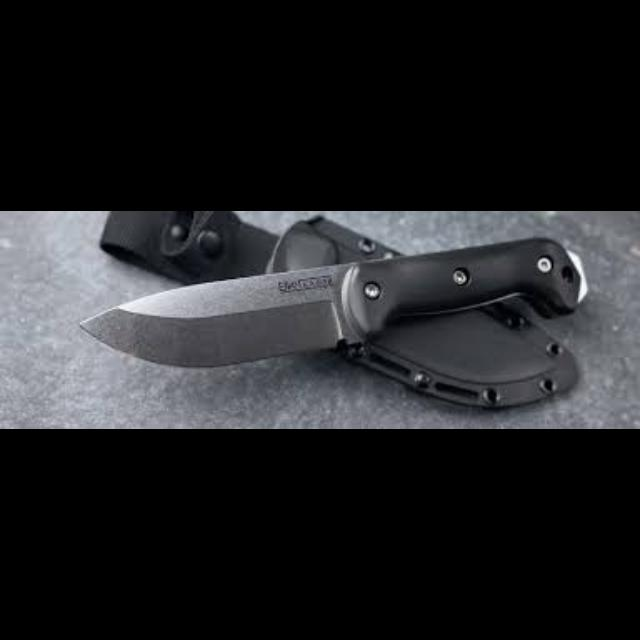knife: (78, 212, 586, 408)
